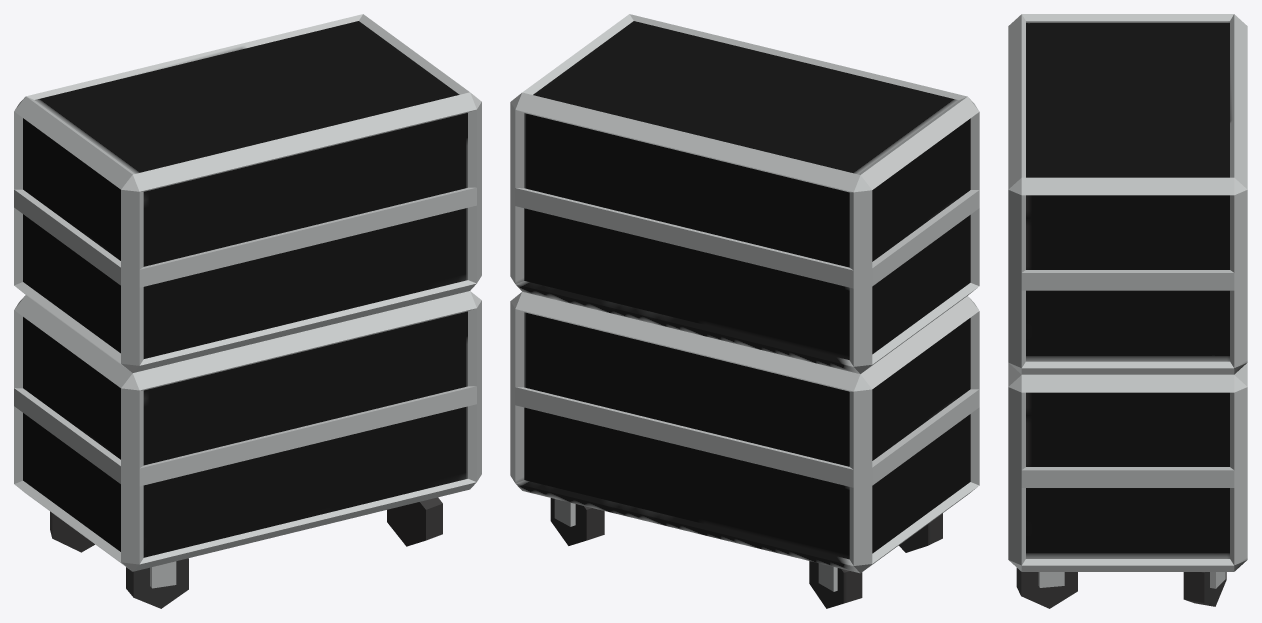
File: cajaDoble.fbx
3 renders of one model, left to right at view 1: azimuth 30°, elevation 25°; view 2: azimuth 150°, elevation 25°; view 3: azimuth 270°, elevation 25°, orthographic.
Parts seen in each view (by area): view 1: Caja; view 2: Caja; view 3: Caja.
Part boxes in pixels (box(x1,y1,x2,y2)): Caja: box(14, 14, 481, 608); Caja: box(510, 14, 979, 608); Caja: box(1008, 14, 1247, 608).
Bounding box in the file's own units: 109 × 130 × 62.87.
